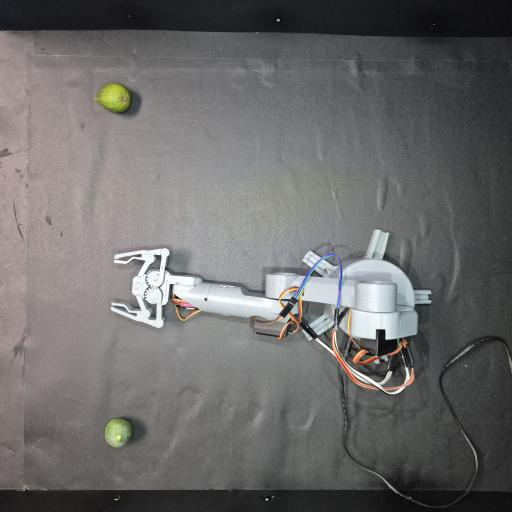higo: (105, 418, 132, 447)
